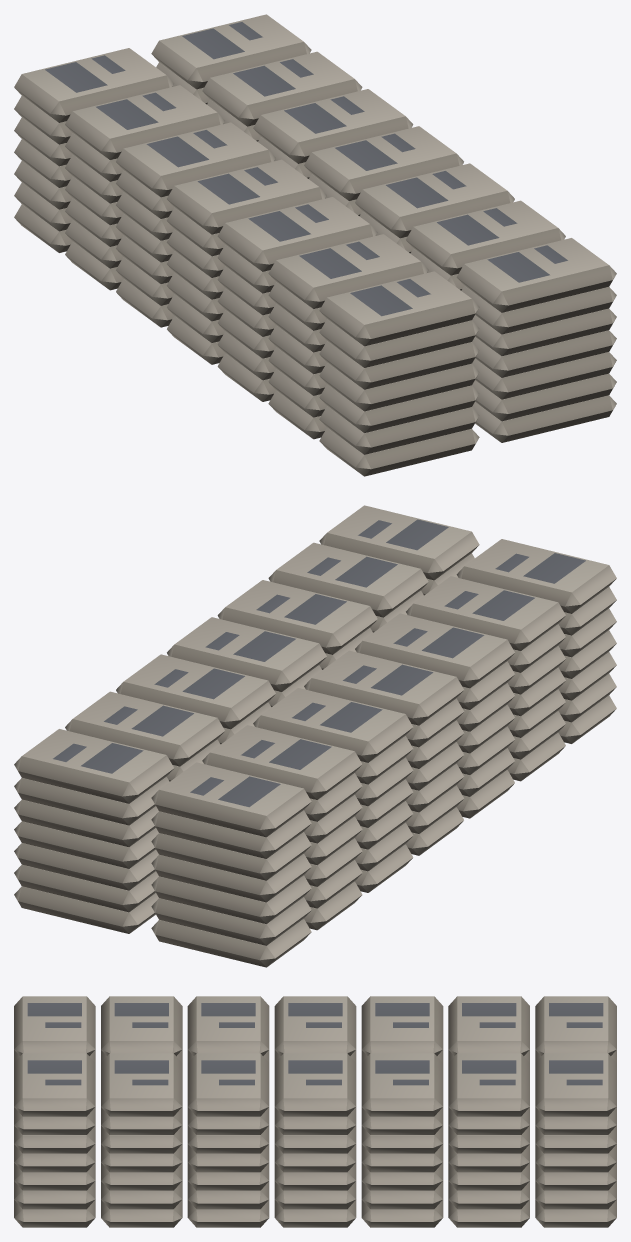
Rendered from Cargo_Cement.fbx.
3 views of the same model, one above another, from view 1: azimuth 30°, elevation 25°; view 2: azimuth 150°, elevation 25°; view 3: azimuth 270°, elevation 25° (orthographic). The views are drawn at different scales.
Visible parts, largest first — view 1: Cargo_Cement; view 2: Cargo_Cement; view 3: Cargo_Cement.
Boxes of the visible parts, <box> form: Cargo_Cement: <box>14,14,616,476</box>; Cargo_Cement: <box>14,505,616,967</box>; Cargo_Cement: <box>14,996,616,1227</box>.
Bounding box in the file's own units: 207 × 116 × 483.
